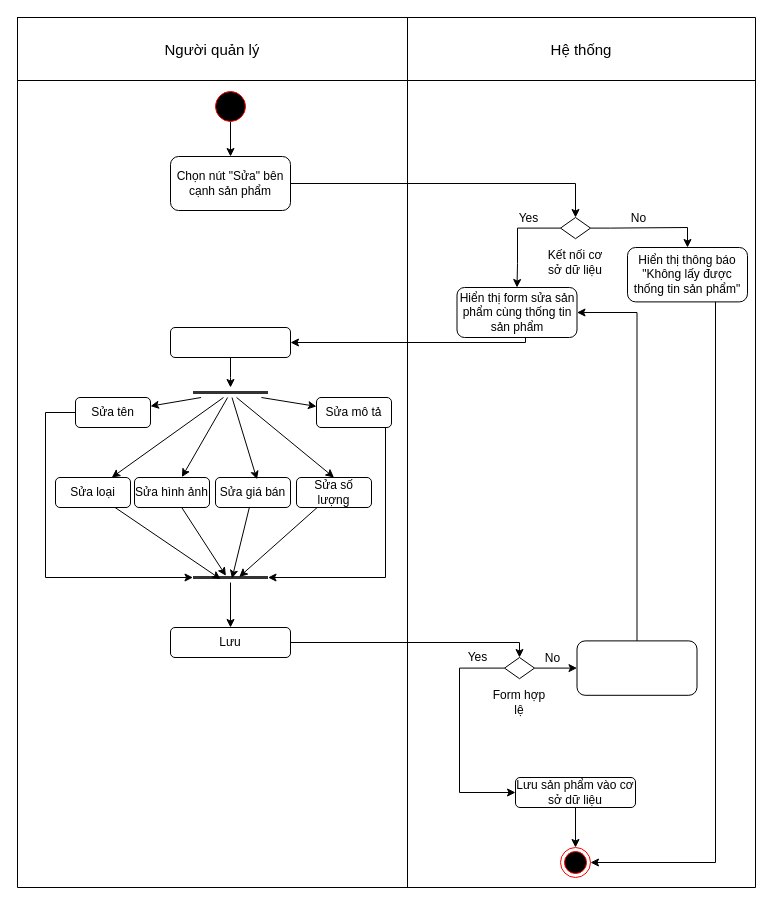
Image size: 773x905. Some labels were removed from this diagram. Here are the shapes that lost their labels. From the top down, the box of each, then its label:
(170, 326, 290, 358): Sửa thông tin sản phẩm
(576, 640, 697, 695): Hiển thị thông báo "Form nhập không hợp lệ"
